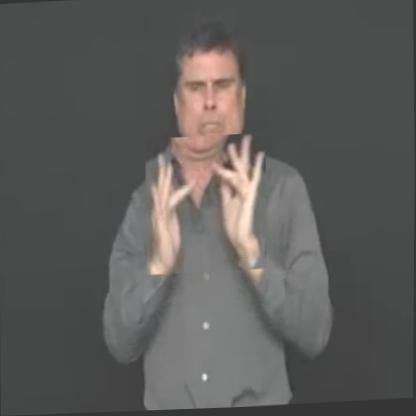Internet: (145, 134, 268, 276)
